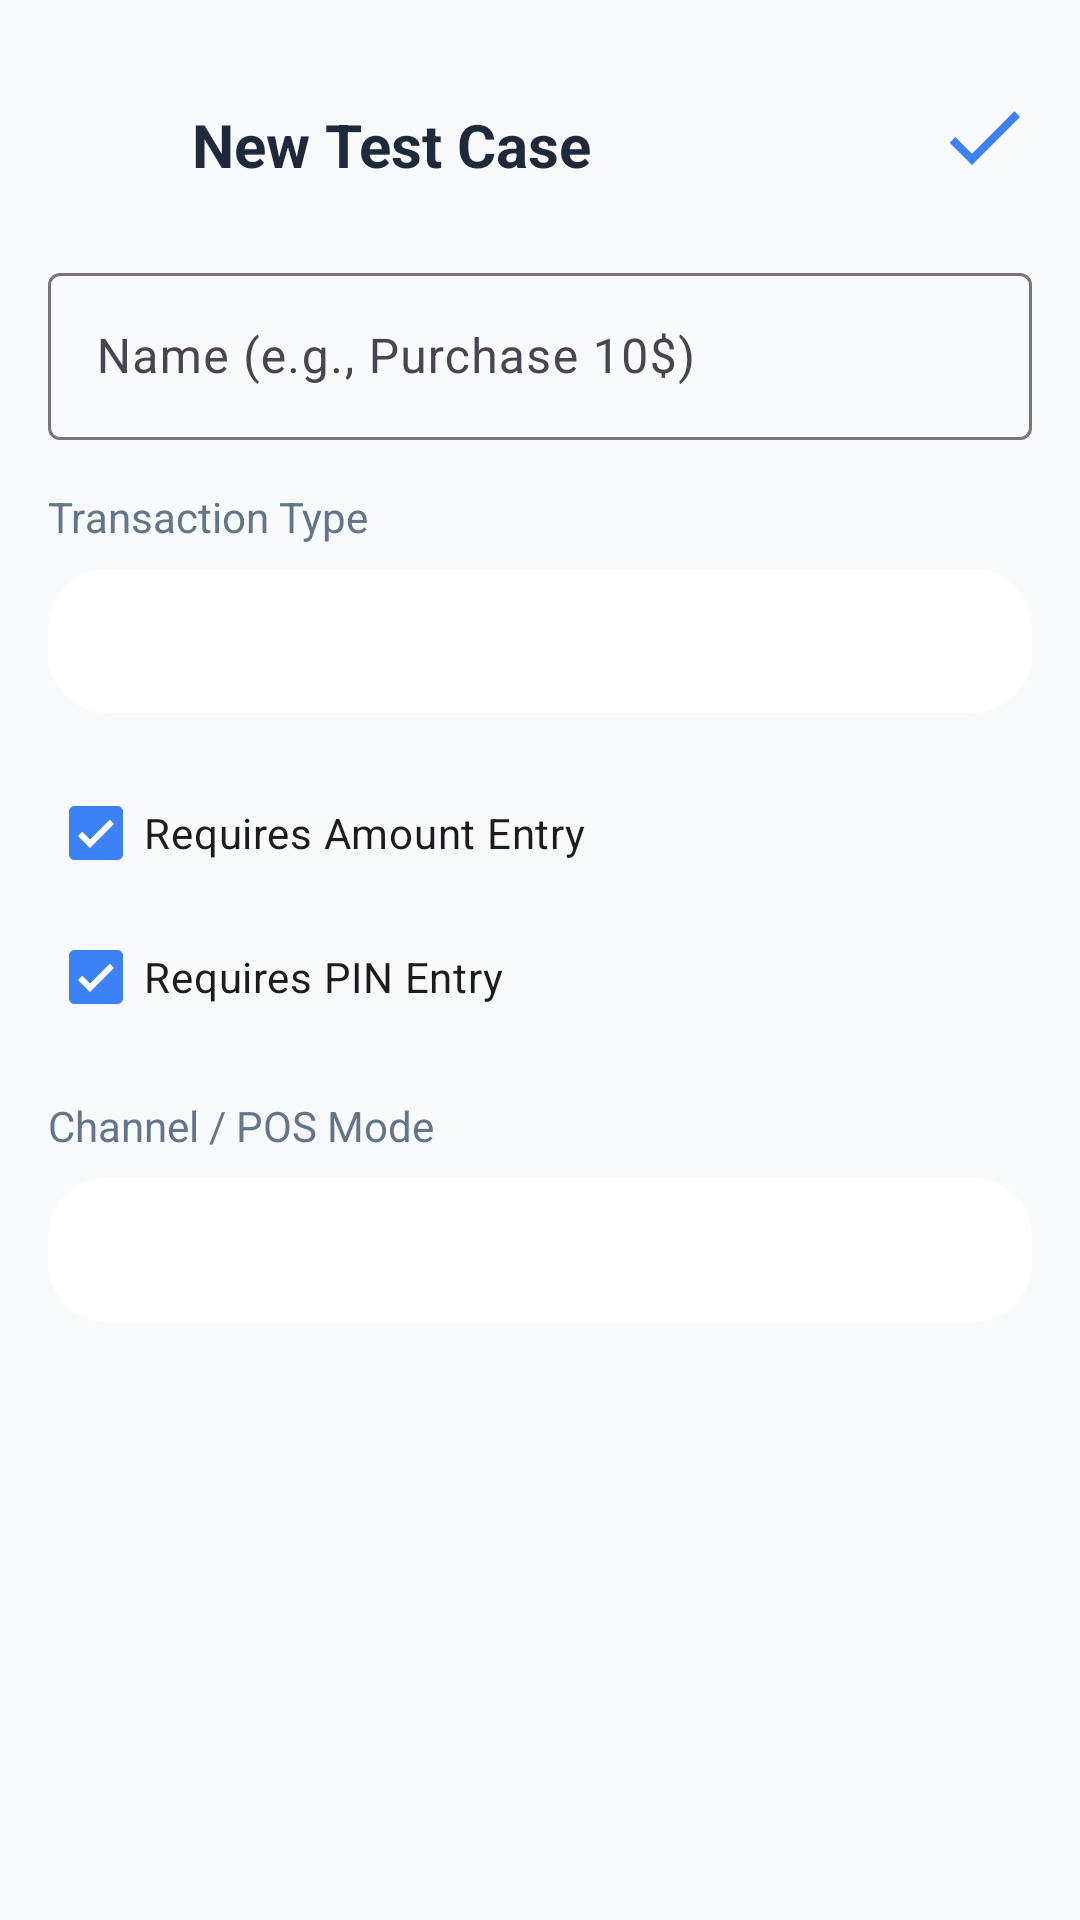

Where icons sit on this 1080px x 1920px app screen, as region(x1, y1, x2, y2):
check: region(950, 111, 1020, 165)
